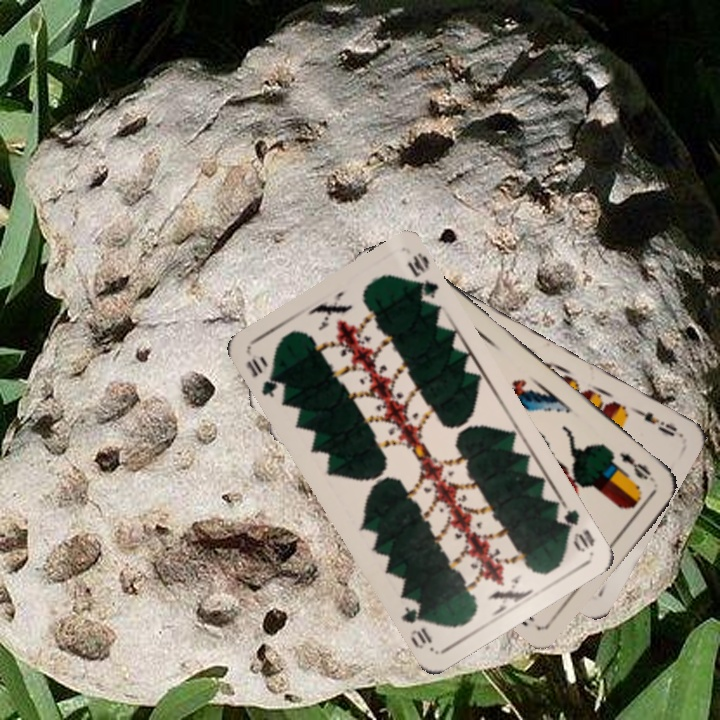E9: (628, 403, 683, 439)
EO: (615, 448, 659, 485)
G10: (552, 503, 598, 555), (242, 353, 288, 402)
